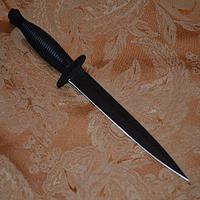knife: (5, 5, 190, 181)
